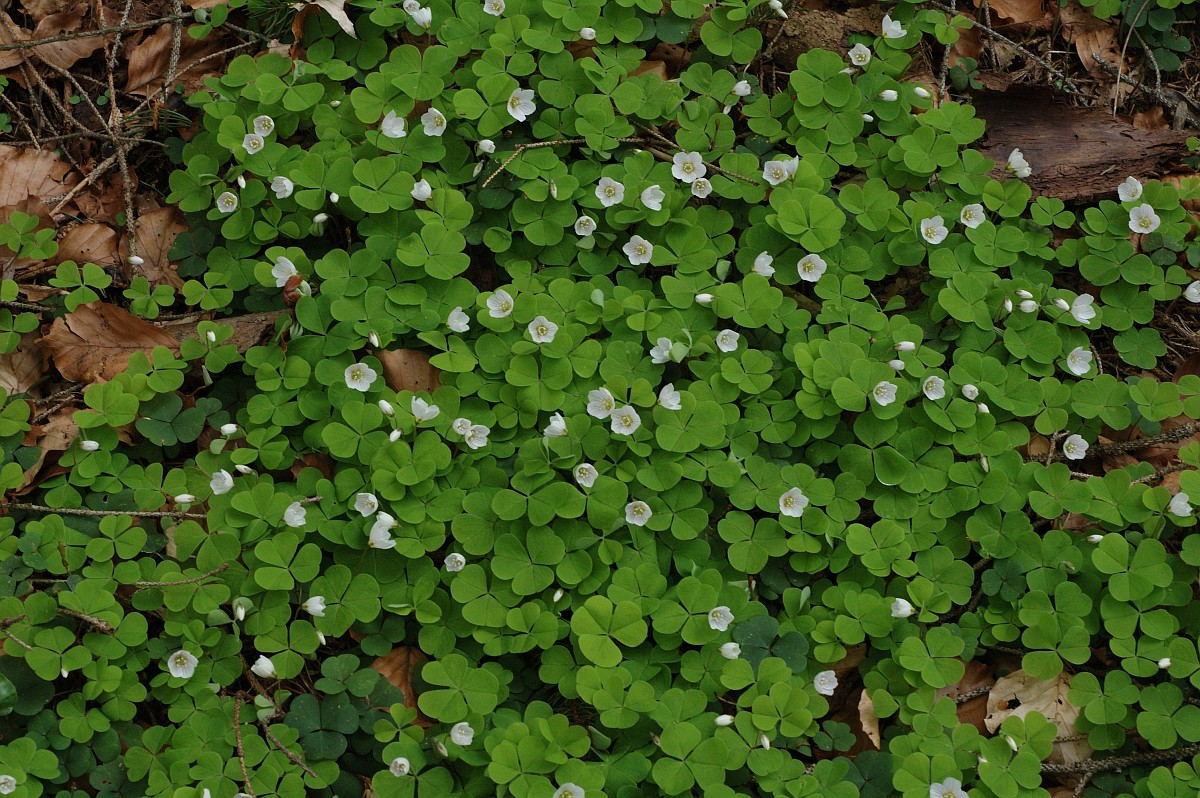oxalis: (165, 73, 1142, 798)
